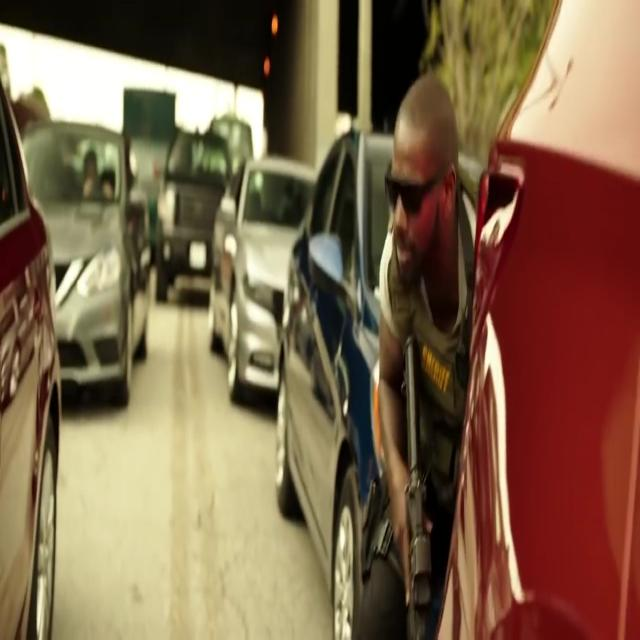Weapon: (386, 333, 449, 610)
